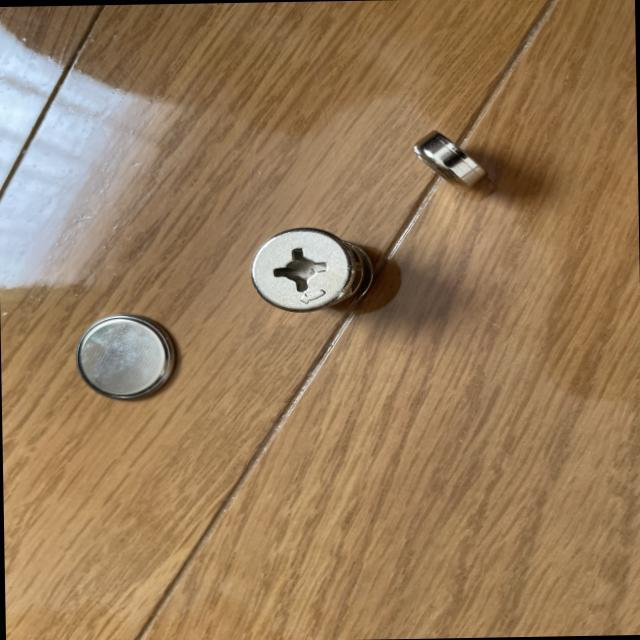COIN: (75, 311, 178, 401), (412, 129, 486, 188)
